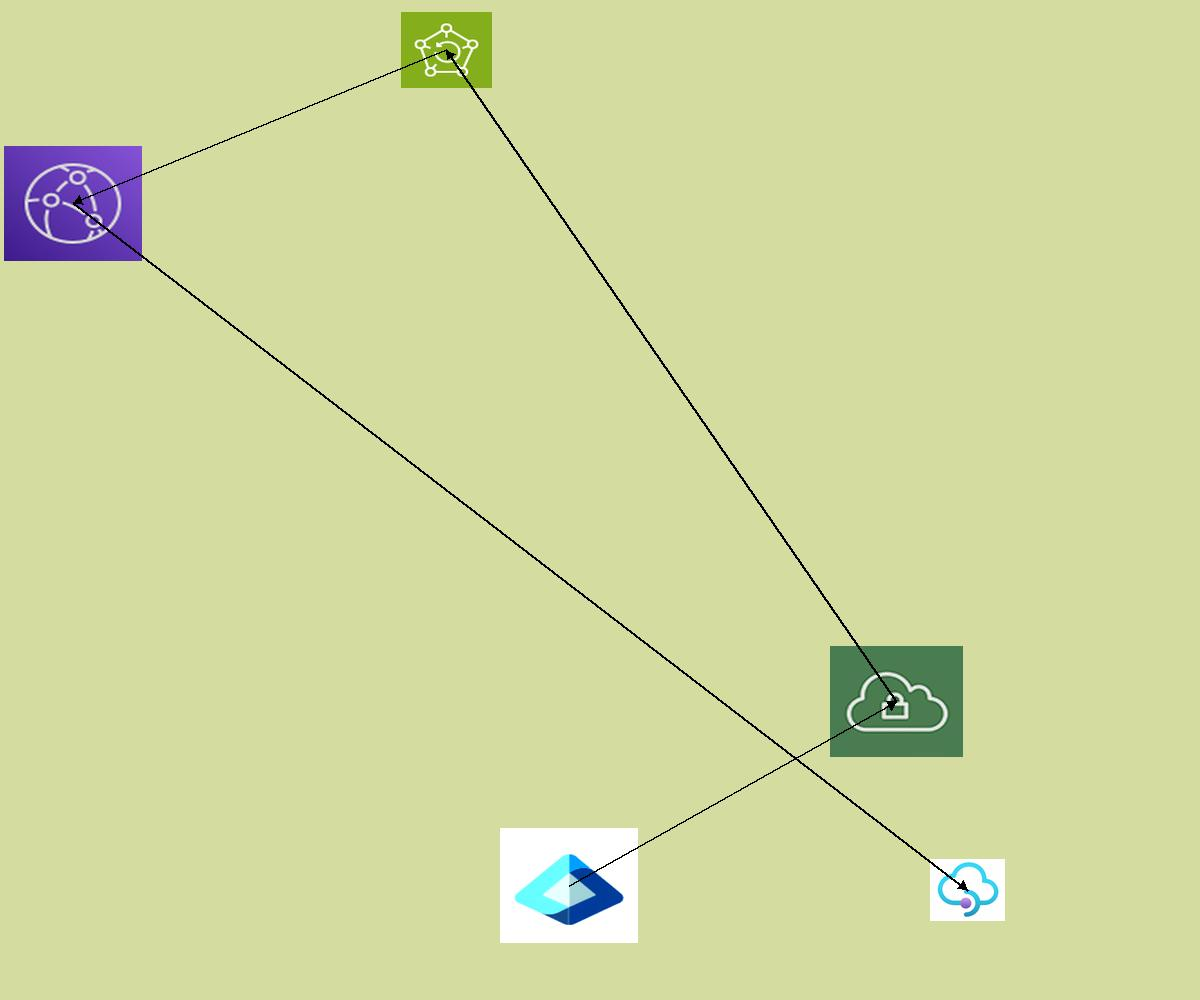AWS-Backup: (401, 12, 492, 88)
AWS-CloudFront: (4, 146, 142, 261)
AWS-Private_vpc: (830, 646, 963, 757)
Azure_api_gateway: (930, 859, 1005, 921)
Azure_microsoft_entra: (500, 828, 638, 943)
